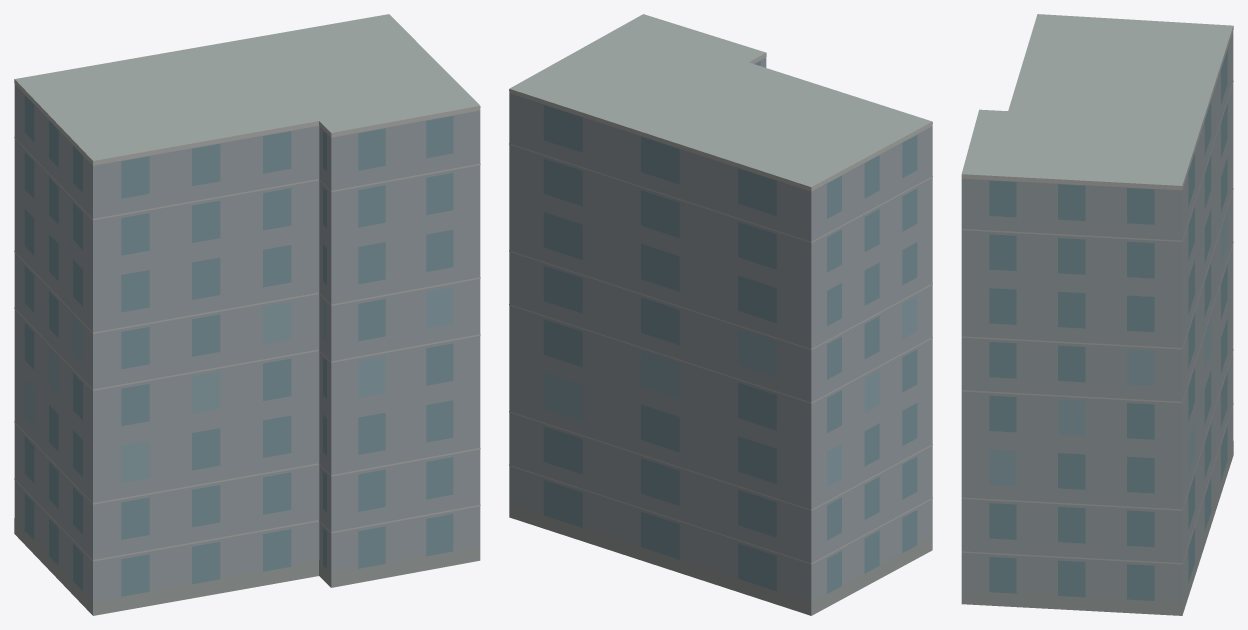
File: survey-upis-32968891.glb
3 renders of one model, left to right at view 1: azimuth 30°, elevation 25°; view 2: azimuth 150°, elevation 25°; view 3: azimuth 270°, elevation 25°, orthographic. The views are drawn at different scales.
Parts seen in each view (by area): view 1: survey-upis-32968891.tmp; view 2: survey-upis-32968891.tmp; view 3: survey-upis-32968891.tmp.
Boxes of the visible parts, x1,y1,x2,y2 form: survey-upis-32968891.tmp: (14, 14, 480, 615); survey-upis-32968891.tmp: (509, 14, 932, 615); survey-upis-32968891.tmp: (961, 14, 1233, 615).
Size of the model in its own units: 20.35 by 23.7 by 13.61.
